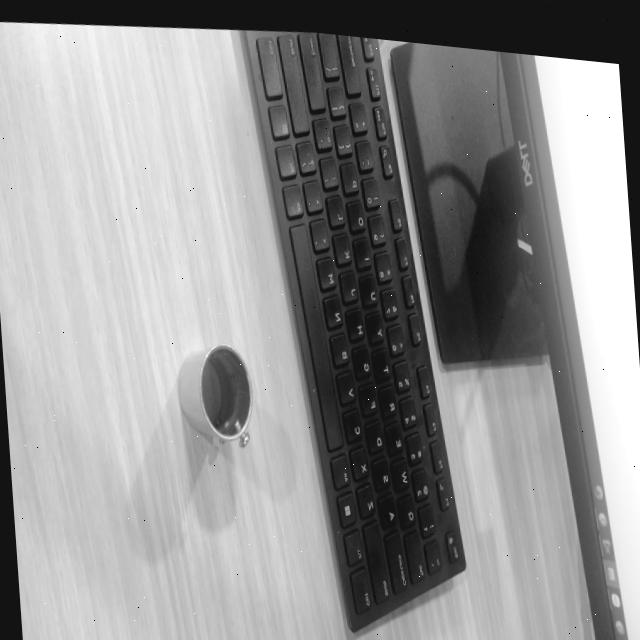Co_Lon: (175, 343, 253, 451)
